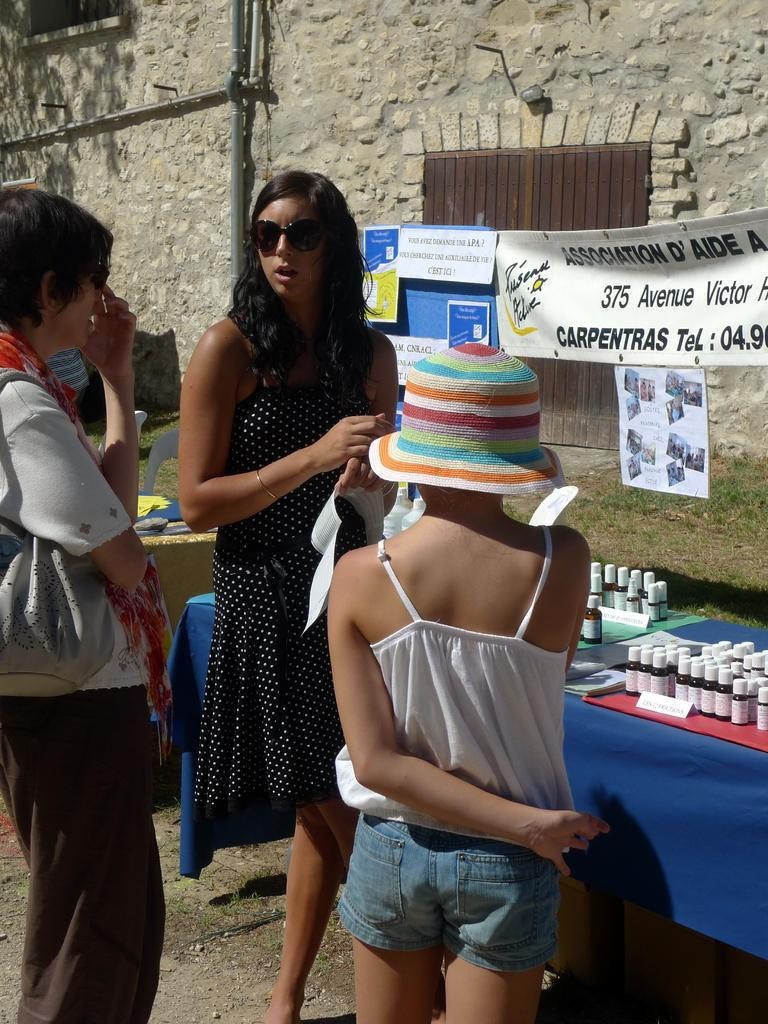Hat: (362, 340, 562, 496)
